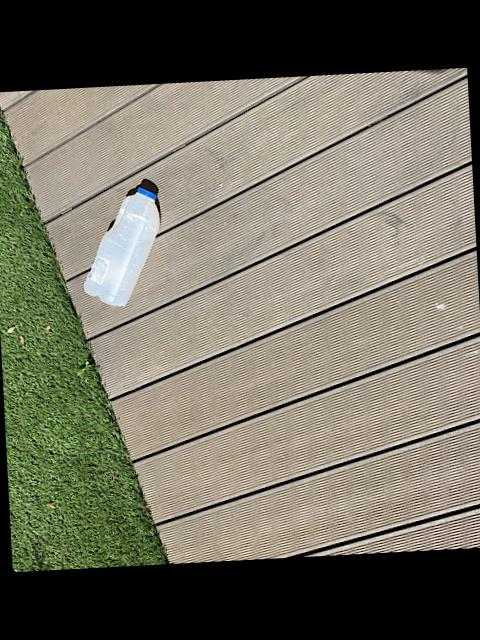plastic: (82, 178, 157, 304)
